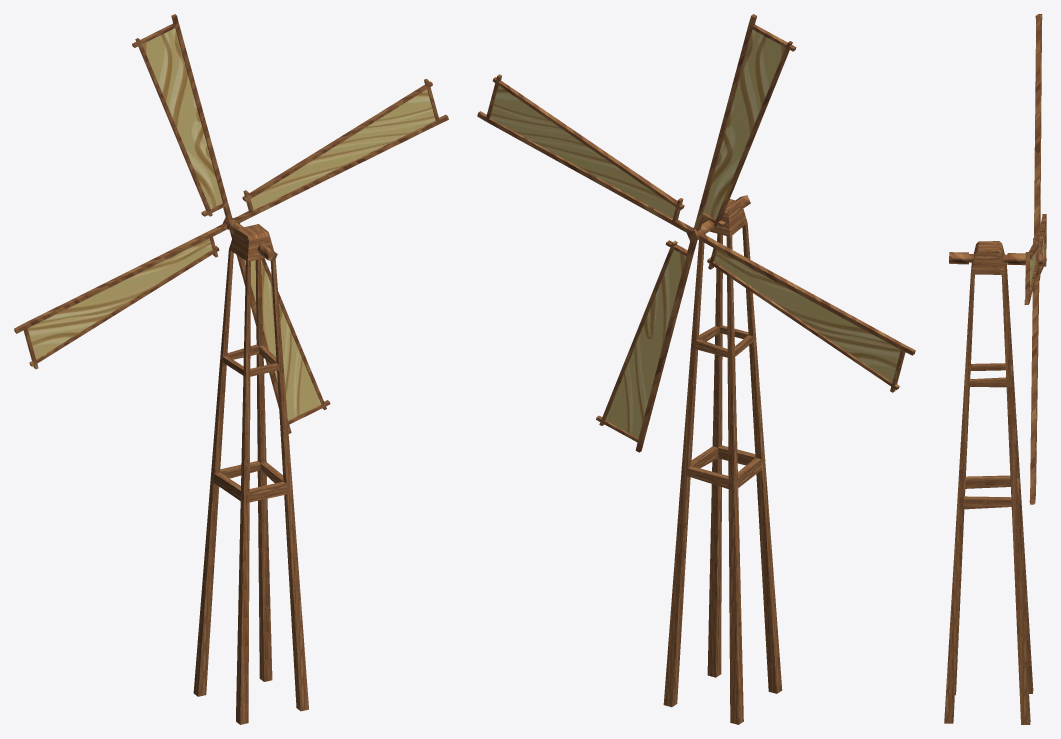
The model's file is FRM0510044.fbx.
3 views of the same model, side by side, from view 1: azimuth 30°, elevation 25°; view 2: azimuth 150°, elevation 25°; view 3: azimuth 270°, elevation 25° (orthographic). The views are drawn at different scales.
Visible parts, largest first — view 1: smFRM0510044; view 2: smFRM0510044; view 3: smFRM0510044.
Part boxes in pixels (bbox=[...]): smFRM0510044: bbox=[14, 14, 448, 724]; smFRM0510044: bbox=[477, 14, 915, 724]; smFRM0510044: bbox=[944, 14, 1046, 724].
Size of the model in its own units: 492 by 755 by 105.
Materials: 1 (1 with a texture image).
